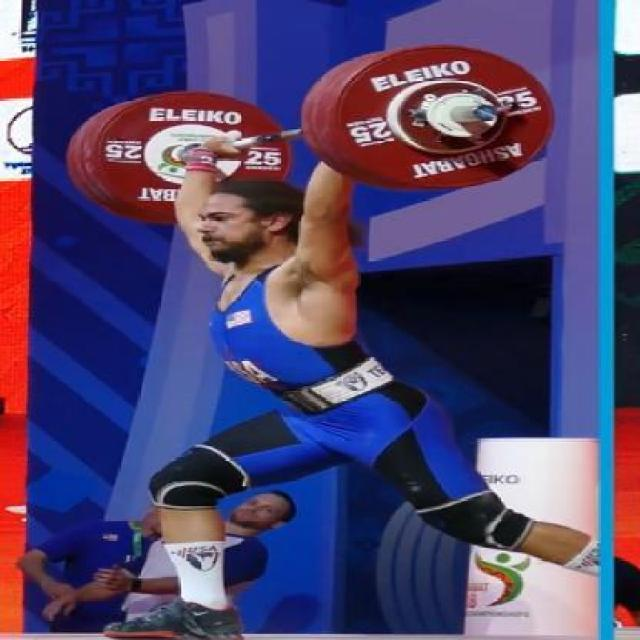barbell: (332, 41, 557, 197)
